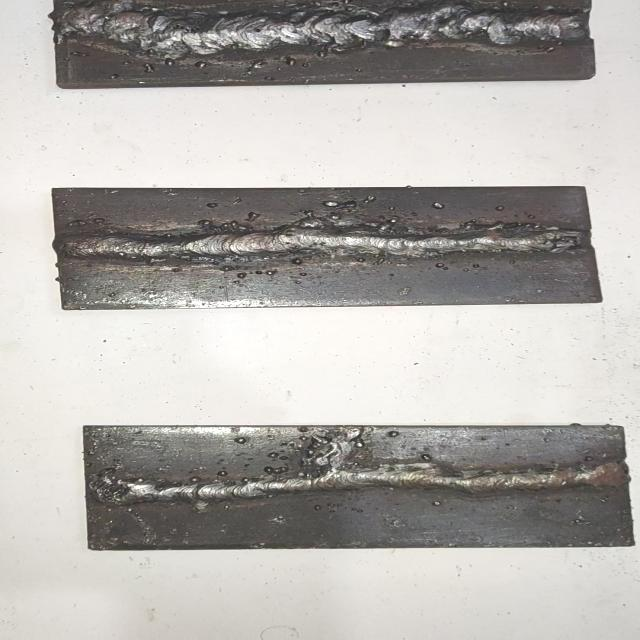Bad Weld: (57, 4, 587, 55), (100, 459, 622, 506), (60, 221, 585, 261)
Defect: (54, 2, 588, 61), (302, 429, 370, 496), (301, 195, 375, 233), (88, 468, 147, 509), (546, 218, 593, 262), (187, 214, 260, 236)
